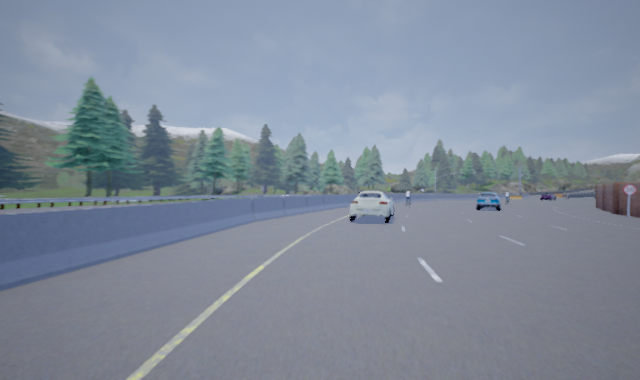bike: (404, 187, 412, 208), (504, 190, 511, 206)
vehicle: (347, 190, 395, 223), (474, 191, 500, 211), (540, 192, 557, 202)
